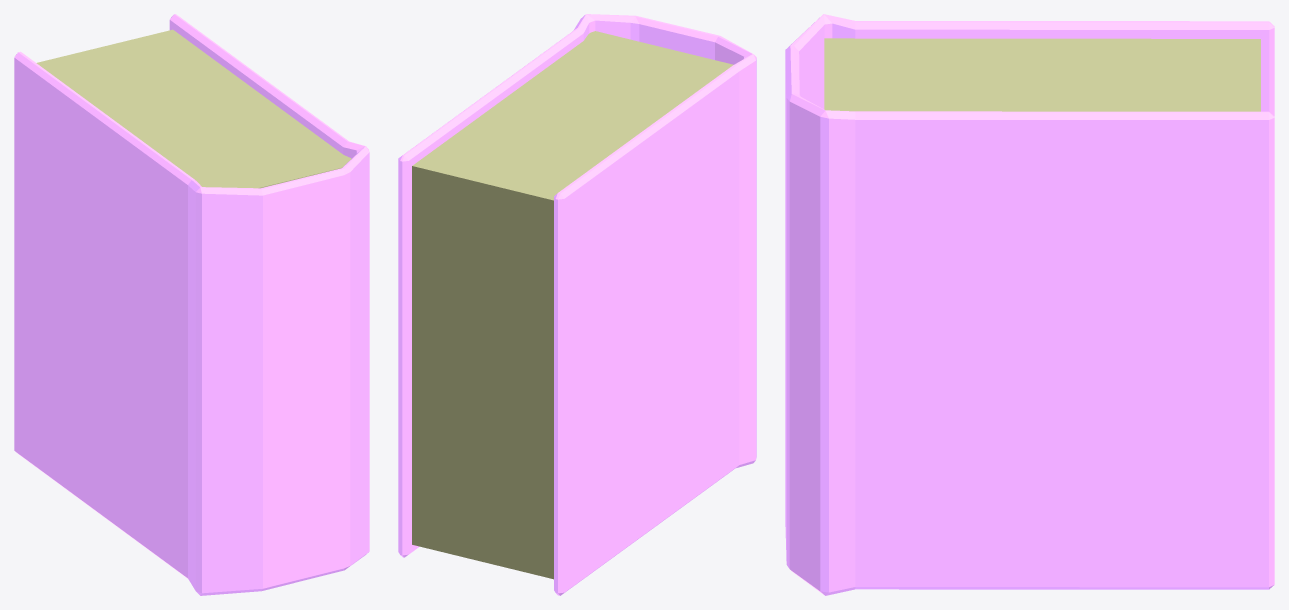
Rendered from basic book.fbx.
The picture shows the model from 3 angles, left to right: view 1: azimuth 30°, elevation 25°; view 2: azimuth 150°, elevation 25°; view 3: azimuth 270°, elevation 25°; orthographic projection. The views are drawn at different scales.
Parts seen in each view (by area): view 1: Cube.001, Cube; view 2: Cube.001, Cube; view 3: Cube.001, Cube.
Boxes of the visible parts, left/top/right/bottom form: Cube.001: left=14, top=14, right=369, bottom=595; Cube: left=36, top=29, right=351, bottom=188; Cube.001: left=398, top=14, right=756, bottom=595; Cube: left=412, top=31, right=733, bottom=579; Cube.001: left=785, top=14, right=1274, bottom=595; Cube: left=824, top=38, right=1260, bottom=111.
Size of the model in its own units: 136 by 305 by 279.
